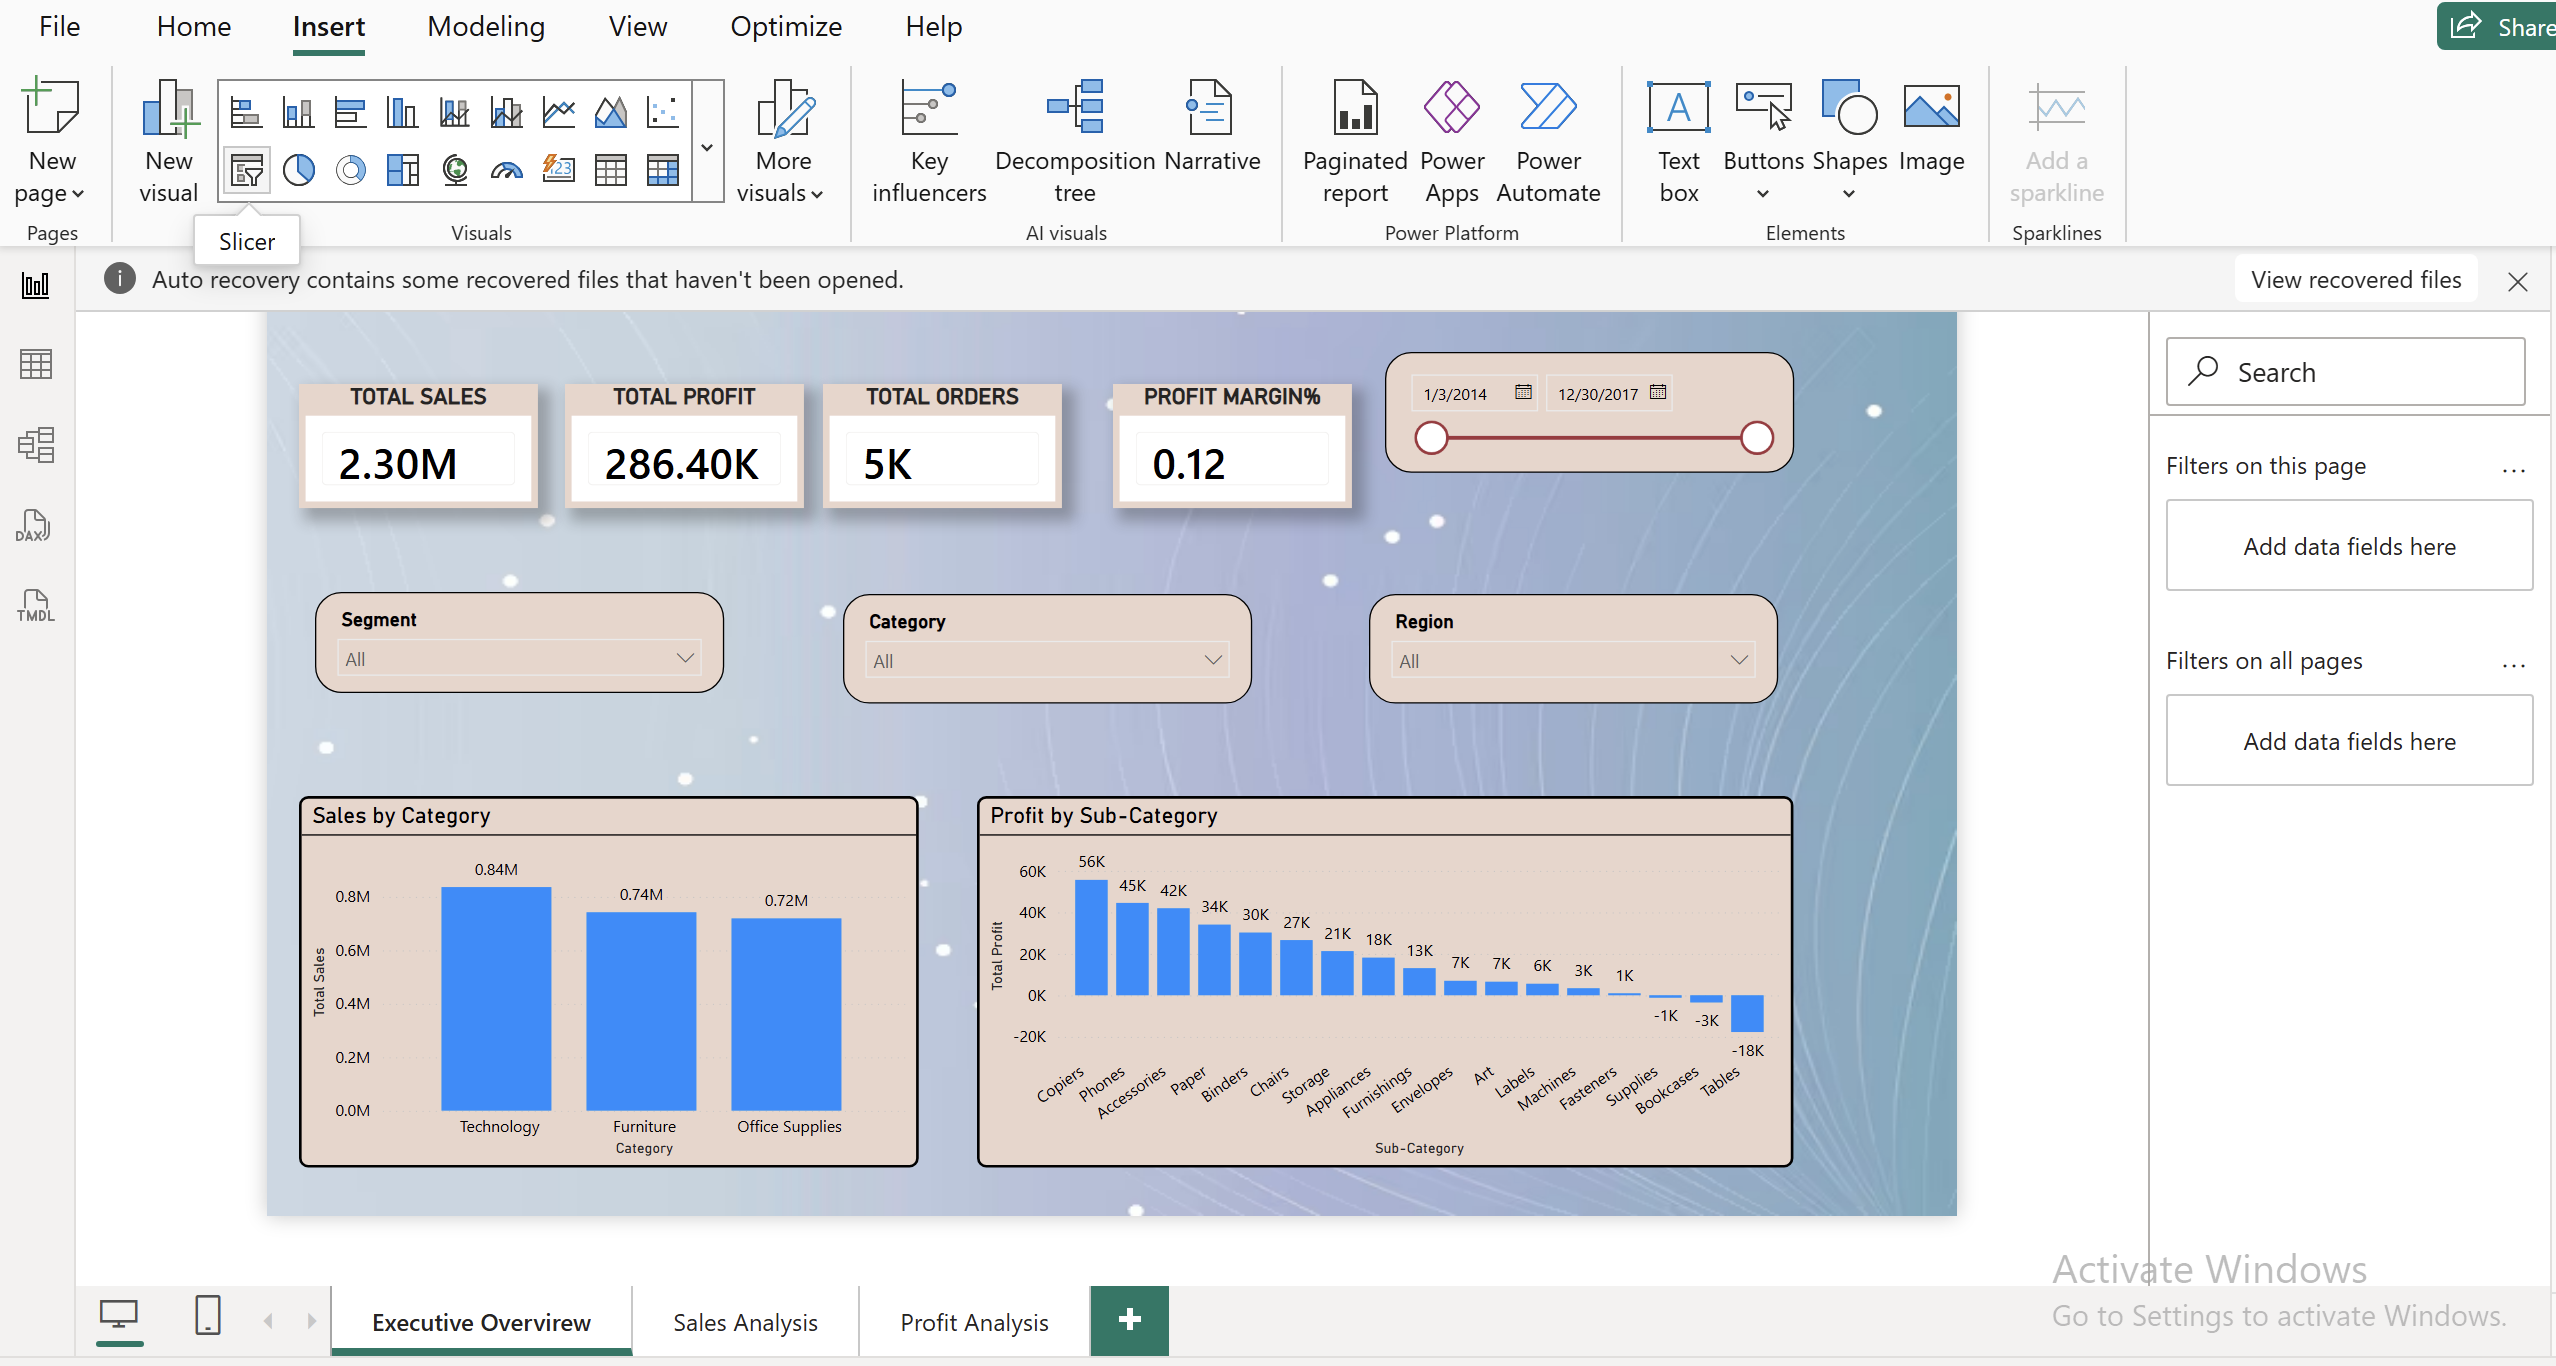

This screenshot's page, from the dashboard's own definition file:
{"tool":"powerbi","page":{"name":"Executive Overvirew","canvas":[1280,720],"ordinal":0},"visuals":[{"type":"cardVisual","title":"TOTAL SALES","fields":{"Data":["Sample - Superstore.Total Sales"]},"box":[23.5,88.7,181,94.1],"z":0},{"type":"cardVisual","title":"TOTAL PROFIT","fields":{"Data":["Sample - Superstore.Total Profit"]},"box":[226.3,88.7,181,94.1],"z":1000},{"type":"cardVisual","title":"TOTAL ORDERS","fields":{"Data":["Sample - Superstore.Total Orders"]},"box":[421.8,88.7,181,94.1],"z":2000},{"type":"cardVisual","title":"PROFIT MARGIN%","fields":{"Data":["Sample - Superstore.Profit Margin %"]},"box":[640.9,88.7,181,94.1],"z":3000},{"type":"clusteredColumnChart","title":"Sales by Category","fields":{"Category":["Sample - Superstore.Category"],"Y":["Sample - Superstore.Total Sales"]},"box":[23.7,401.7,469.5,281.4],"z":4000},{"type":"clusteredColumnChart","title":"Profit by Sub-Category","fields":{"Category":["Sample - Superstore.Sub-Category"],"Y":["Sample - Superstore.Total Profit"]},"box":[537.3,401.7,618.6,281.4],"z":5000},{"type":"slicer","fields":{"Values":["Sample - Superstore.Order Date"]},"box":[847.5,64.4,310.2,91.5],"z":6000},{"type":"slicer","fields":{"Values":["Sample - Superstore.Region"]},"box":[834.7,248.3,310.2,83.1],"z":7000},{"type":"slicer","fields":{"Values":["Sample - Superstore.Category"]},"box":[436.4,248.3,310.2,83.1],"z":8000},{"type":"slicer","fields":{"Values":["Sample - Superstore.Segment"]},"box":[36.4,246.6,310.2,76.3],"z":9000}]}

Visuals, with their boxes on the page's 1280x720 design canvas (x1, y1, x2, y2). These are canvas units, not pixel positions in the 2556x1366 screenshot, which may show the page scaled, cropped or inside an application window:
"TOTAL SALES" cardVisual: <bbox>24, 89, 204, 183</bbox>
"TOTAL PROFIT" cardVisual: <bbox>226, 89, 407, 183</bbox>
"TOTAL ORDERS" cardVisual: <bbox>422, 89, 603, 183</bbox>
"PROFIT MARGIN%" cardVisual: <bbox>641, 89, 822, 183</bbox>
"Sales by Category" clusteredColumnChart: <bbox>24, 402, 493, 683</bbox>
"Profit by Sub-Category" clusteredColumnChart: <bbox>537, 402, 1156, 683</bbox>
slicer - Sample - Superstore.Order Date: <bbox>848, 64, 1158, 156</bbox>
slicer - Sample - Superstore.Region: <bbox>835, 248, 1145, 331</bbox>
slicer - Sample - Superstore.Category: <bbox>436, 248, 747, 331</bbox>
slicer - Sample - Superstore.Segment: <bbox>36, 247, 347, 323</bbox>
